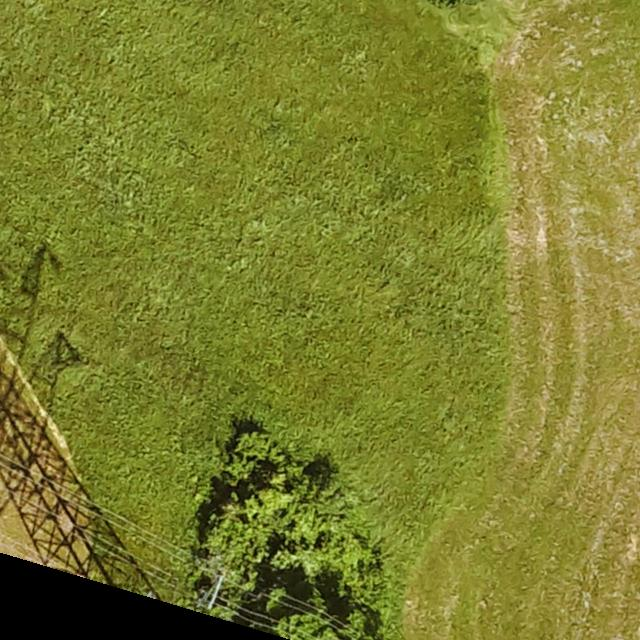tree: (201, 455, 368, 605)
